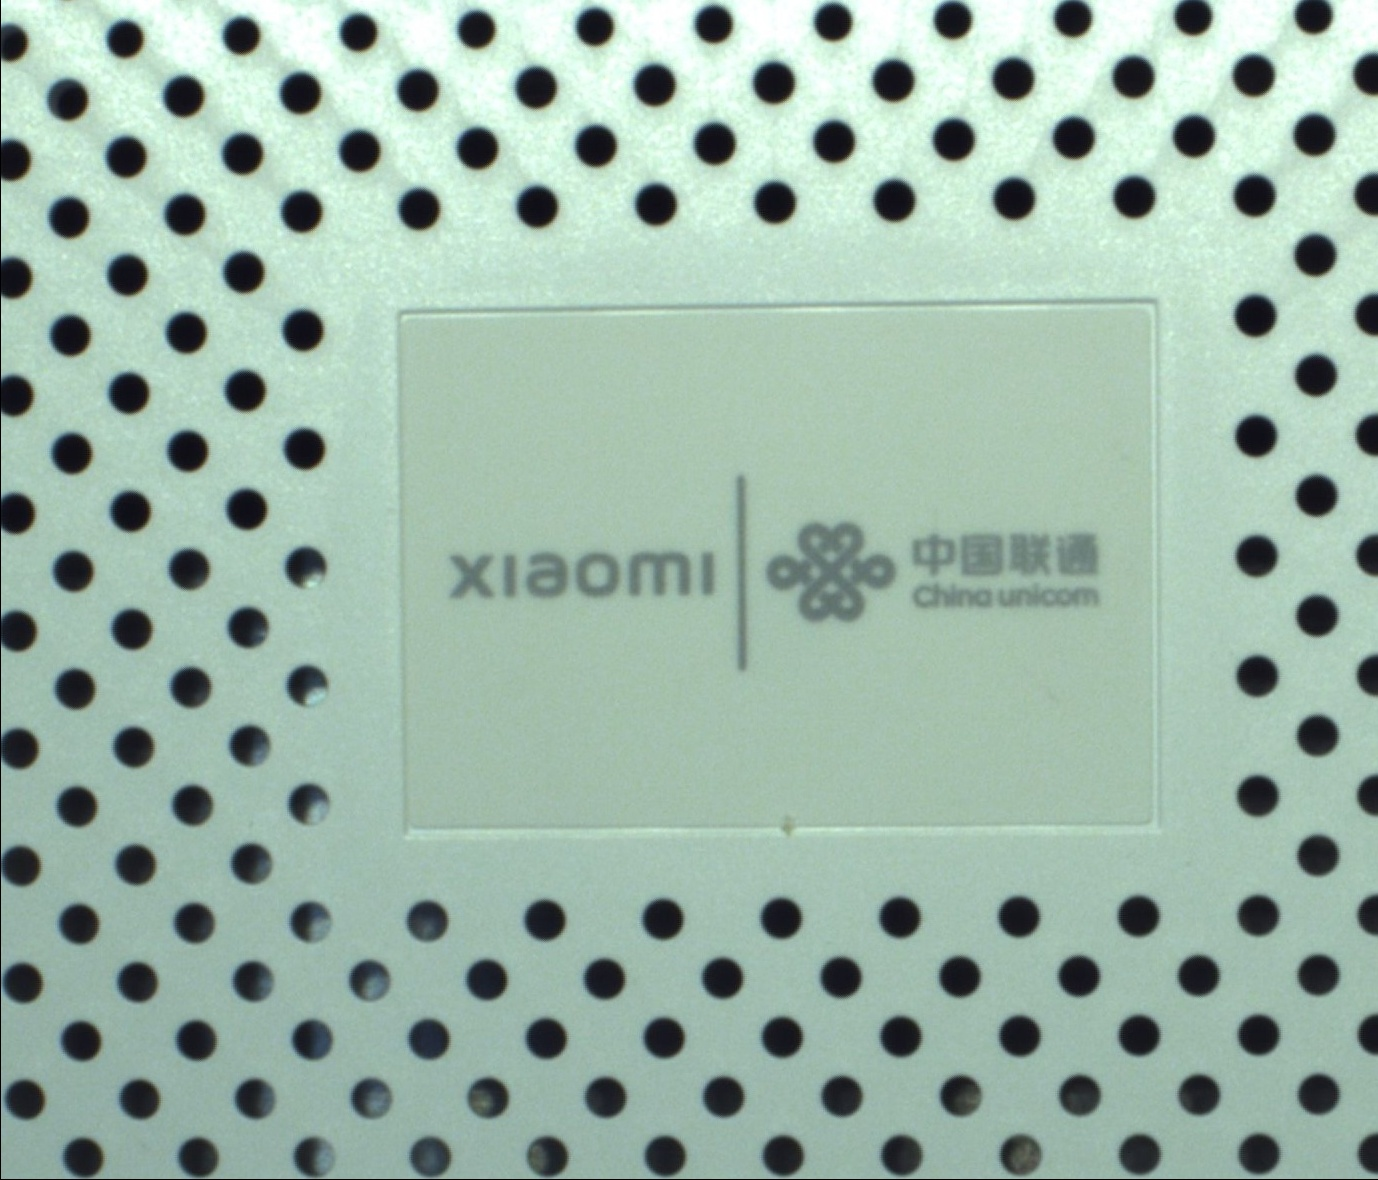MAC_NewUnicom: (453, 469, 1118, 670)
